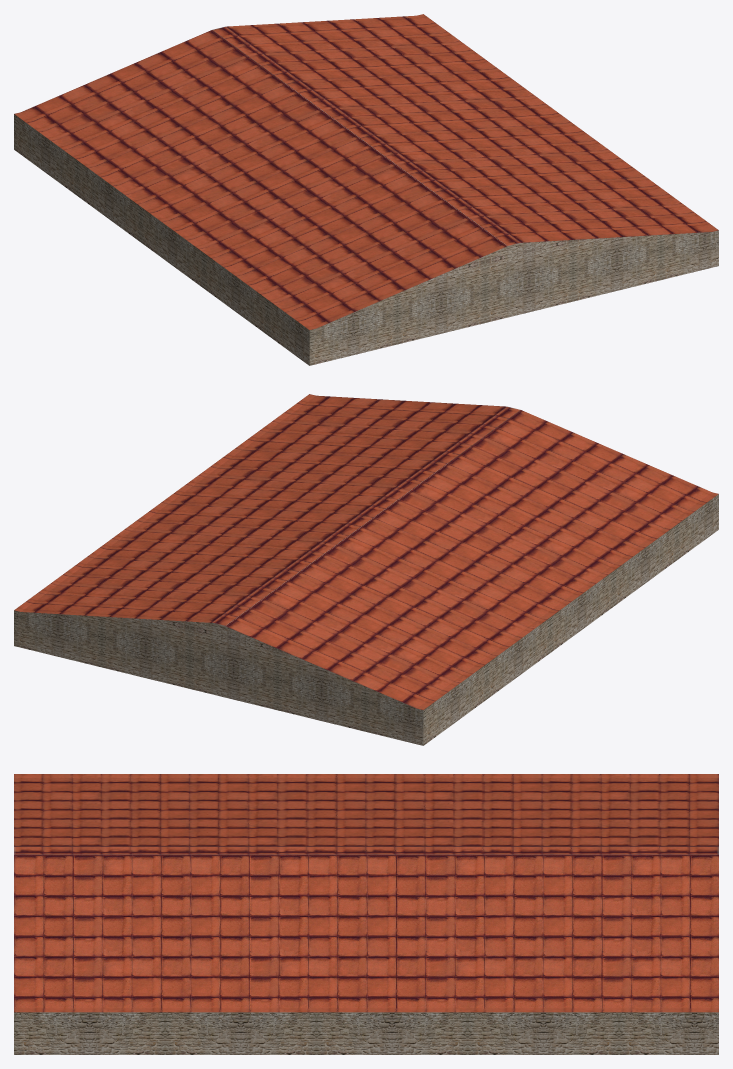
Rendered from farm.fbx.
The picture shows the model from 3 angles, top to bottom: view 1: azimuth 30°, elevation 25°; view 2: azimuth 150°, elevation 25°; view 3: azimuth 270°, elevation 25°; orthographic projection. The views are drawn at different scales.
Visible parts, largest first — view 1: Cube; view 2: Cube; view 3: Cube.
Part boxes in pixels (x1=…): Cube: x1=14, y1=14, x2=718, y2=365; Cube: x1=14, y1=394, x2=718, y2=745; Cube: x1=14, y1=774, x2=718, y2=1054.
Size of the model in its own units: 120 by 20 by 150.
Materials: 1 (1 with a texture image).
